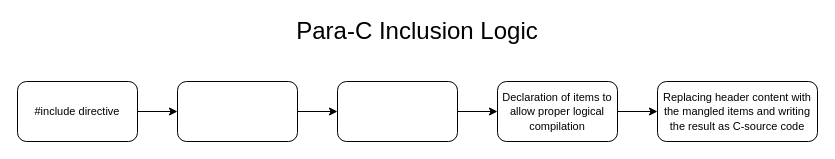
Image size: 835x159. Some labels were removed from this diagram. Here are the shapes that lost their labels. From the top down, the centre of each, then its label:
the point at 237,111: Copying of content of the header to the selected position
the point at 397,111: Name-mangling the content
